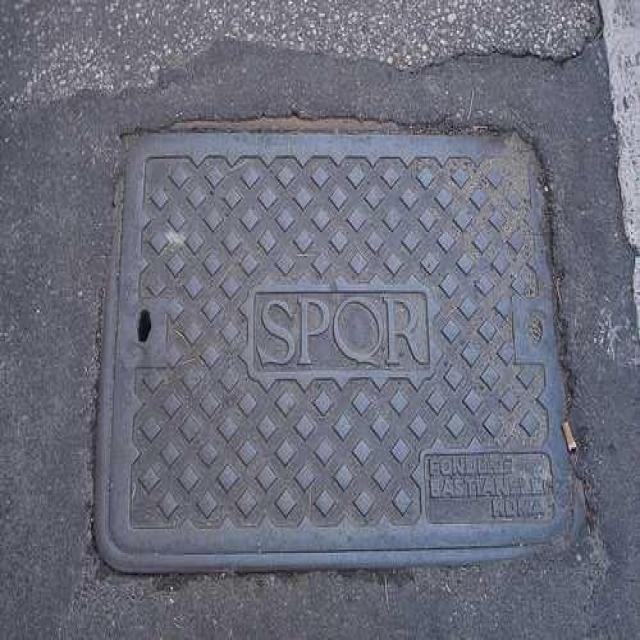manhole: (98, 132, 570, 572)
